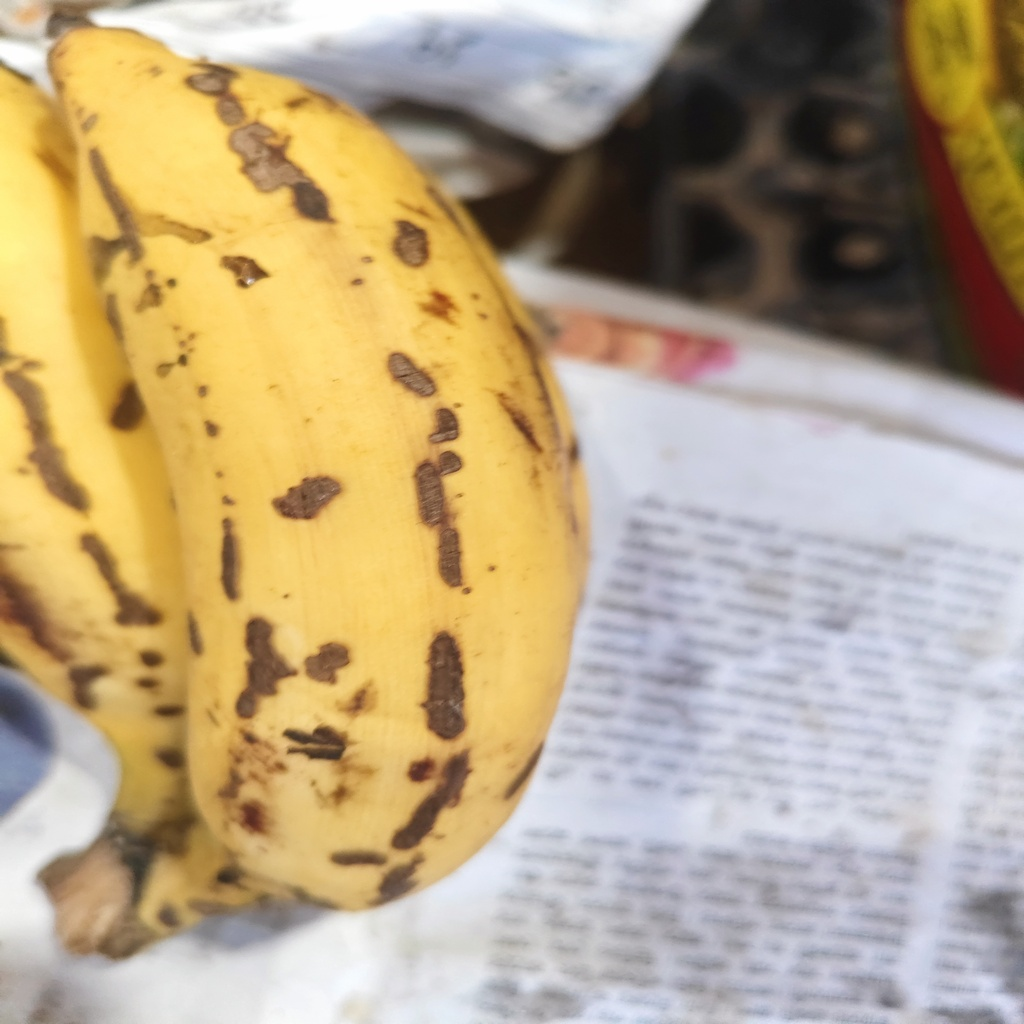unhealthy: (50, 26, 590, 911)
